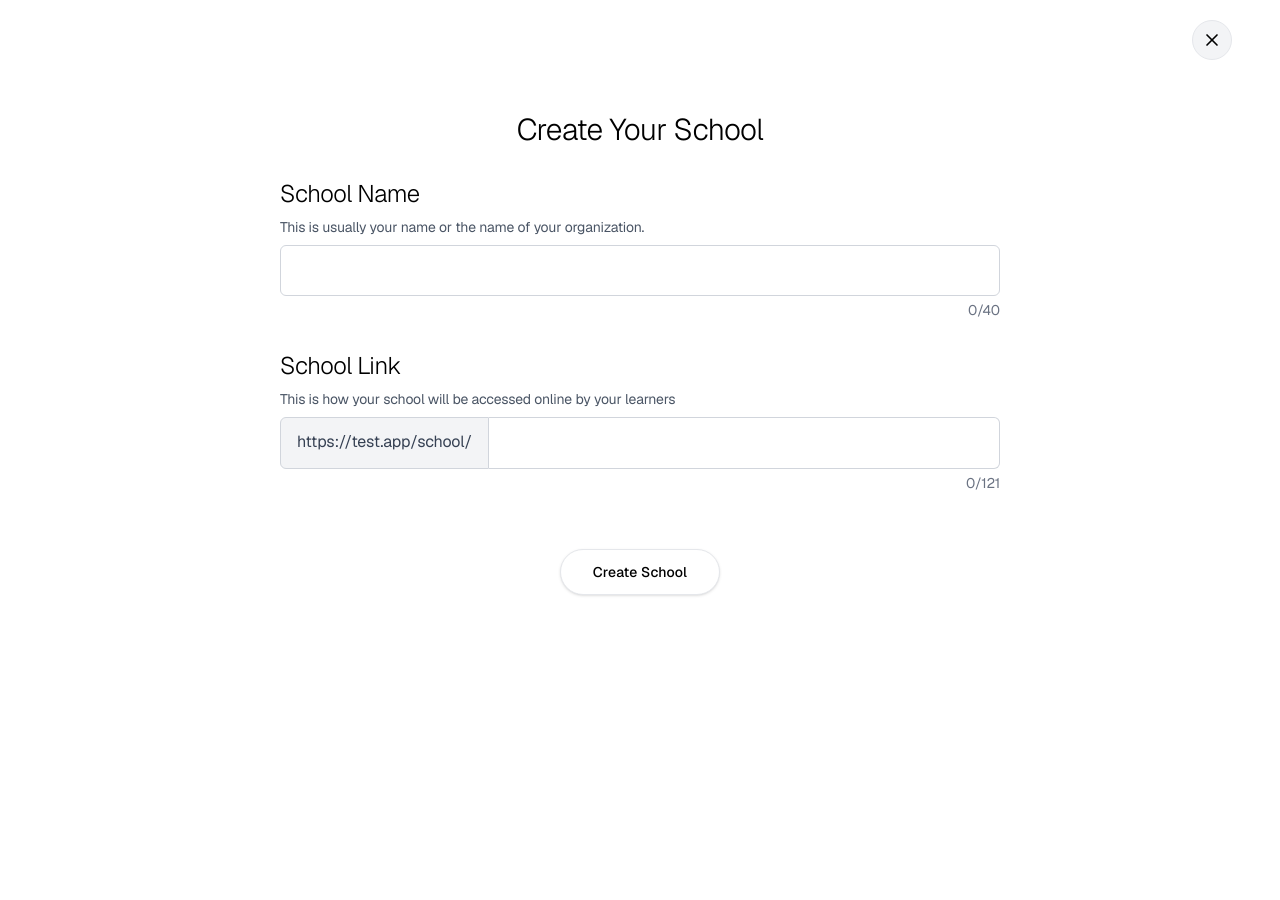
Test: CreateSchool Page › Audio Functionality › should play success sound on successful form submission
Fill and submit form
Type "Test School" into the 1st field.
click(640, 271); type("Test School")  # box [280,245,1000,296]
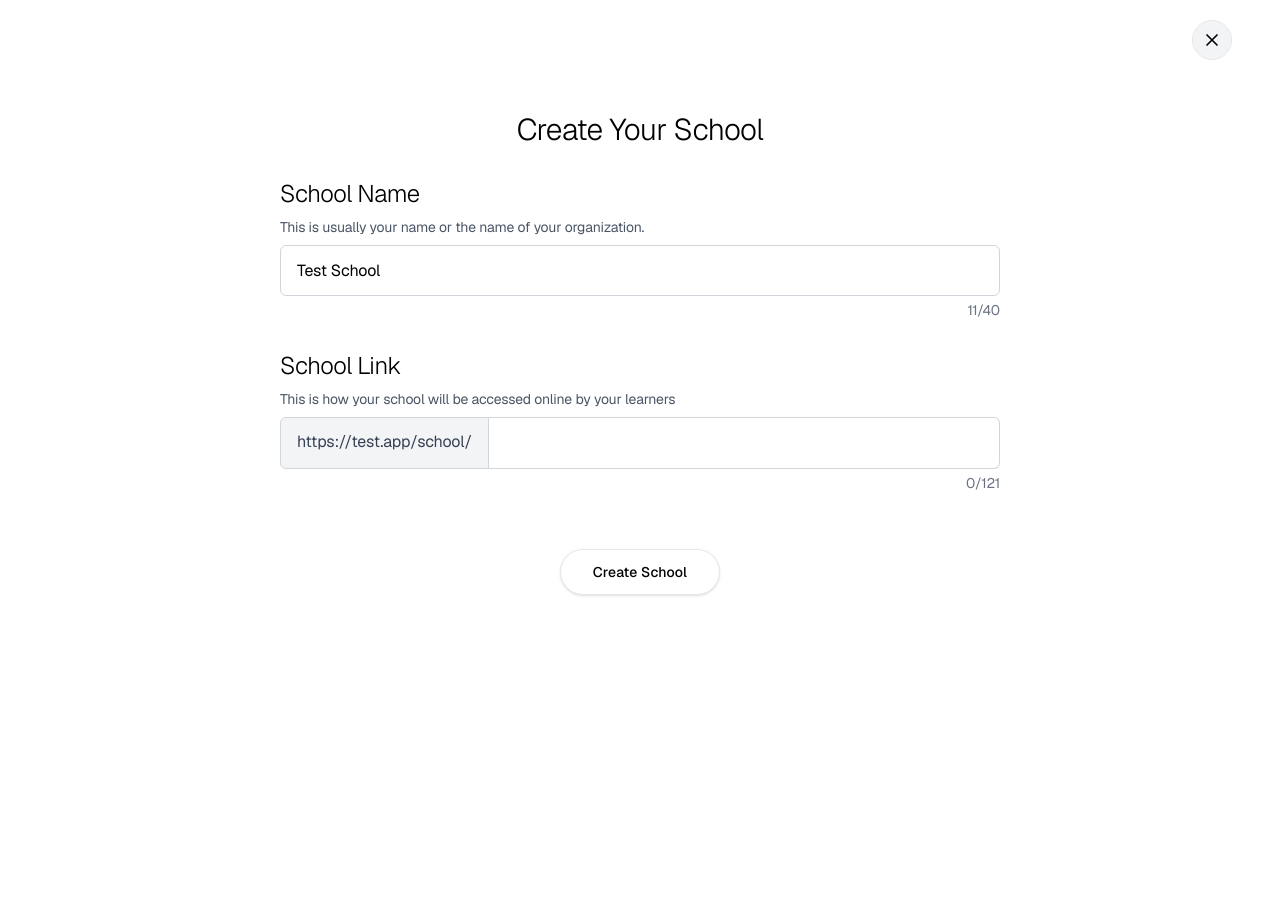
Type "test-school" into the field with id "slug".
click(744, 443); type("test-school")  # box [489,417,1000,469]
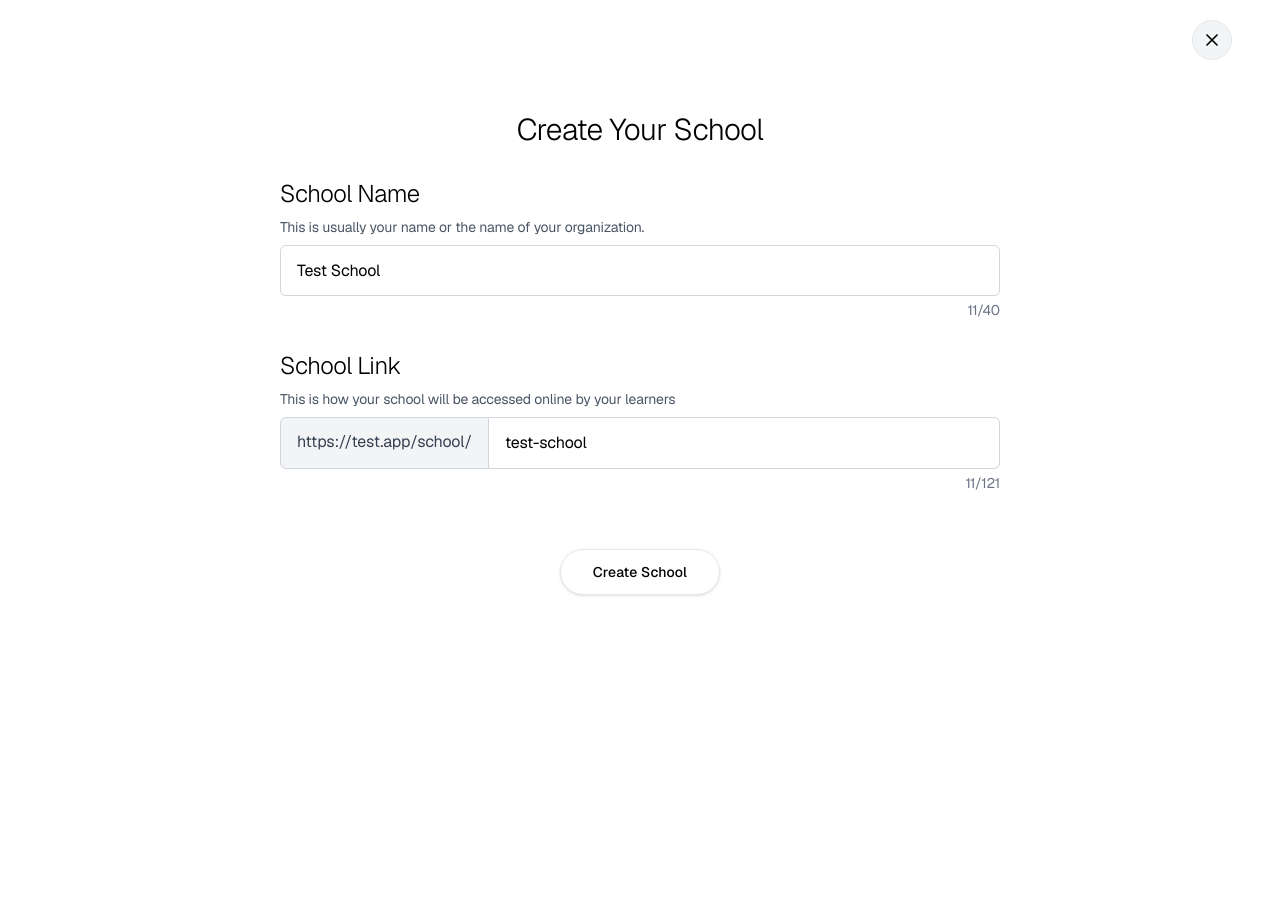
Click the button "Create School".
click(640, 572)  # box [560,549,720,595]
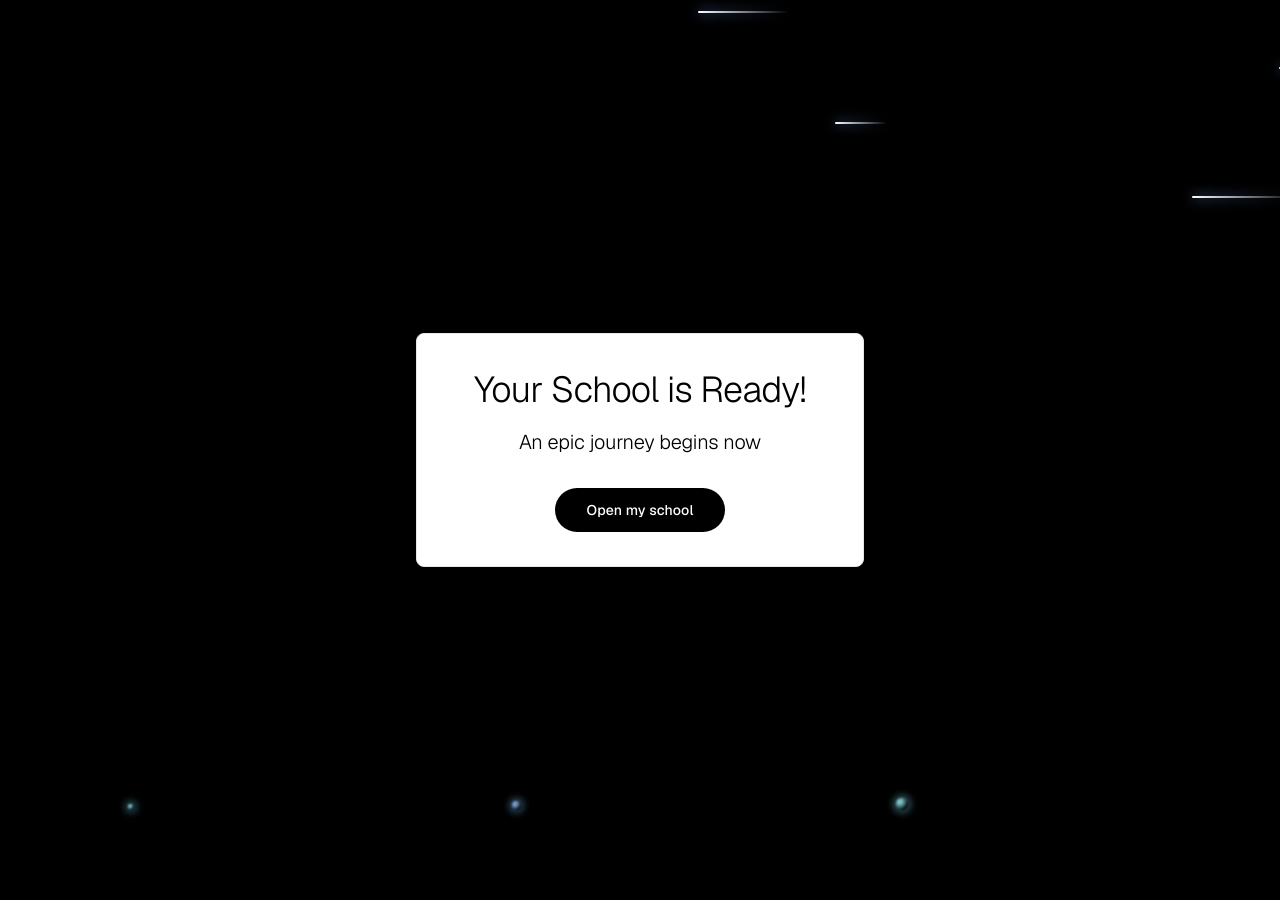
Result: the heading "Your School is Ready!" is shown at [474,368,806,412]
